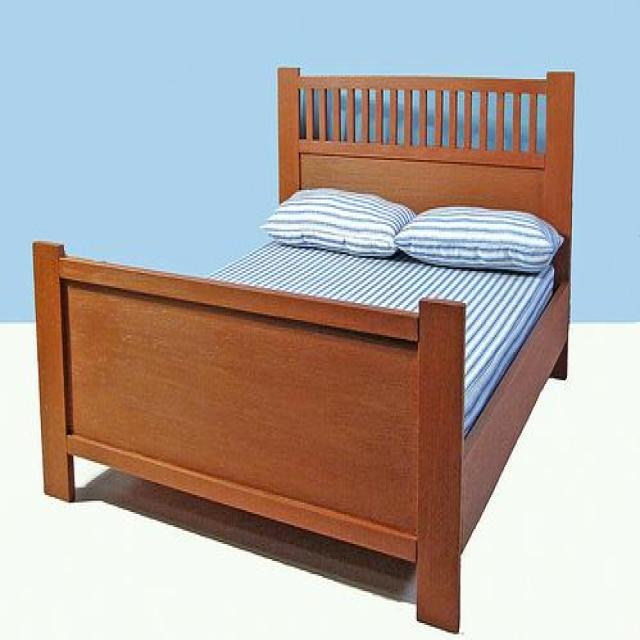bed: (32, 64, 575, 632)
